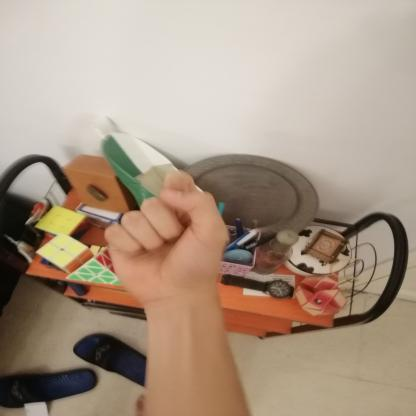FAA: (85, 163, 243, 313)
